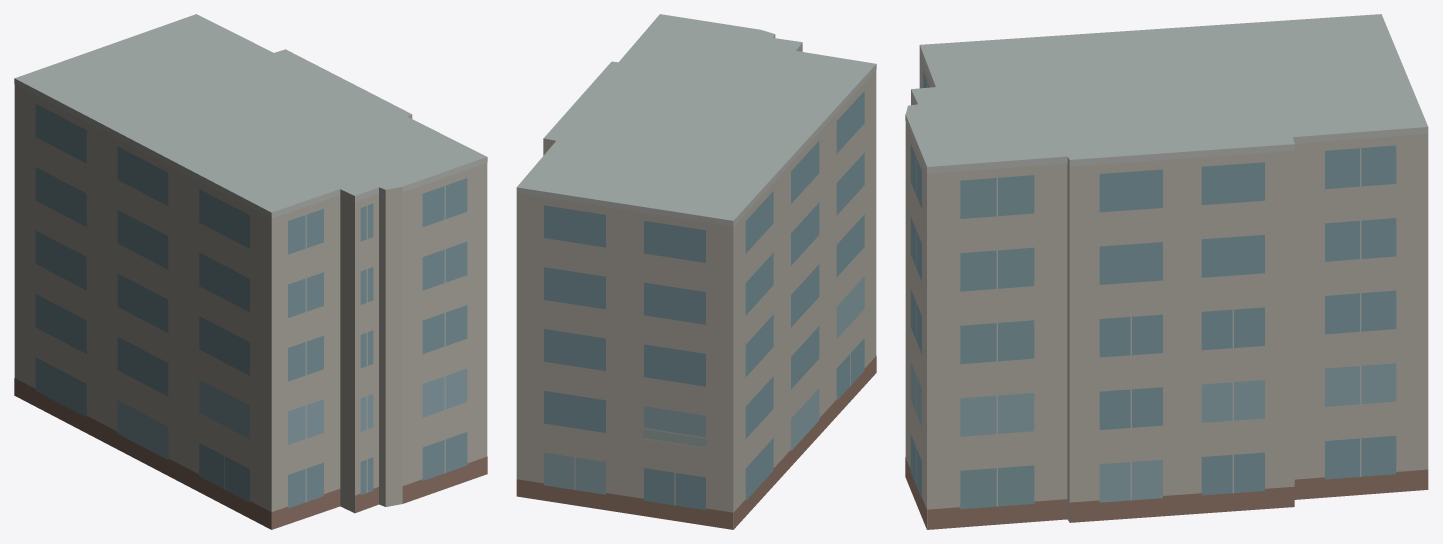
The model's file is survey-upis-32881974.glb.
3 views of the same model, side by side, from view 1: azimuth 30°, elevation 25°; view 2: azimuth 150°, elevation 25°; view 3: azimuth 270°, elevation 25° (orthographic). The views are drawn at different scales.
Visible parts, largest first — view 1: survey-upis-32881974.tmp; view 2: survey-upis-32881974.tmp; view 3: survey-upis-32881974.tmp.
Part boxes in pixels (x1,y1,x2,y2): survey-upis-32881974.tmp: [14, 14, 487, 529]; survey-upis-32881974.tmp: [516, 14, 876, 529]; survey-upis-32881974.tmp: [905, 14, 1428, 529].
Size of the model in its own units: 11.95 by 13.2 by 17.24.
